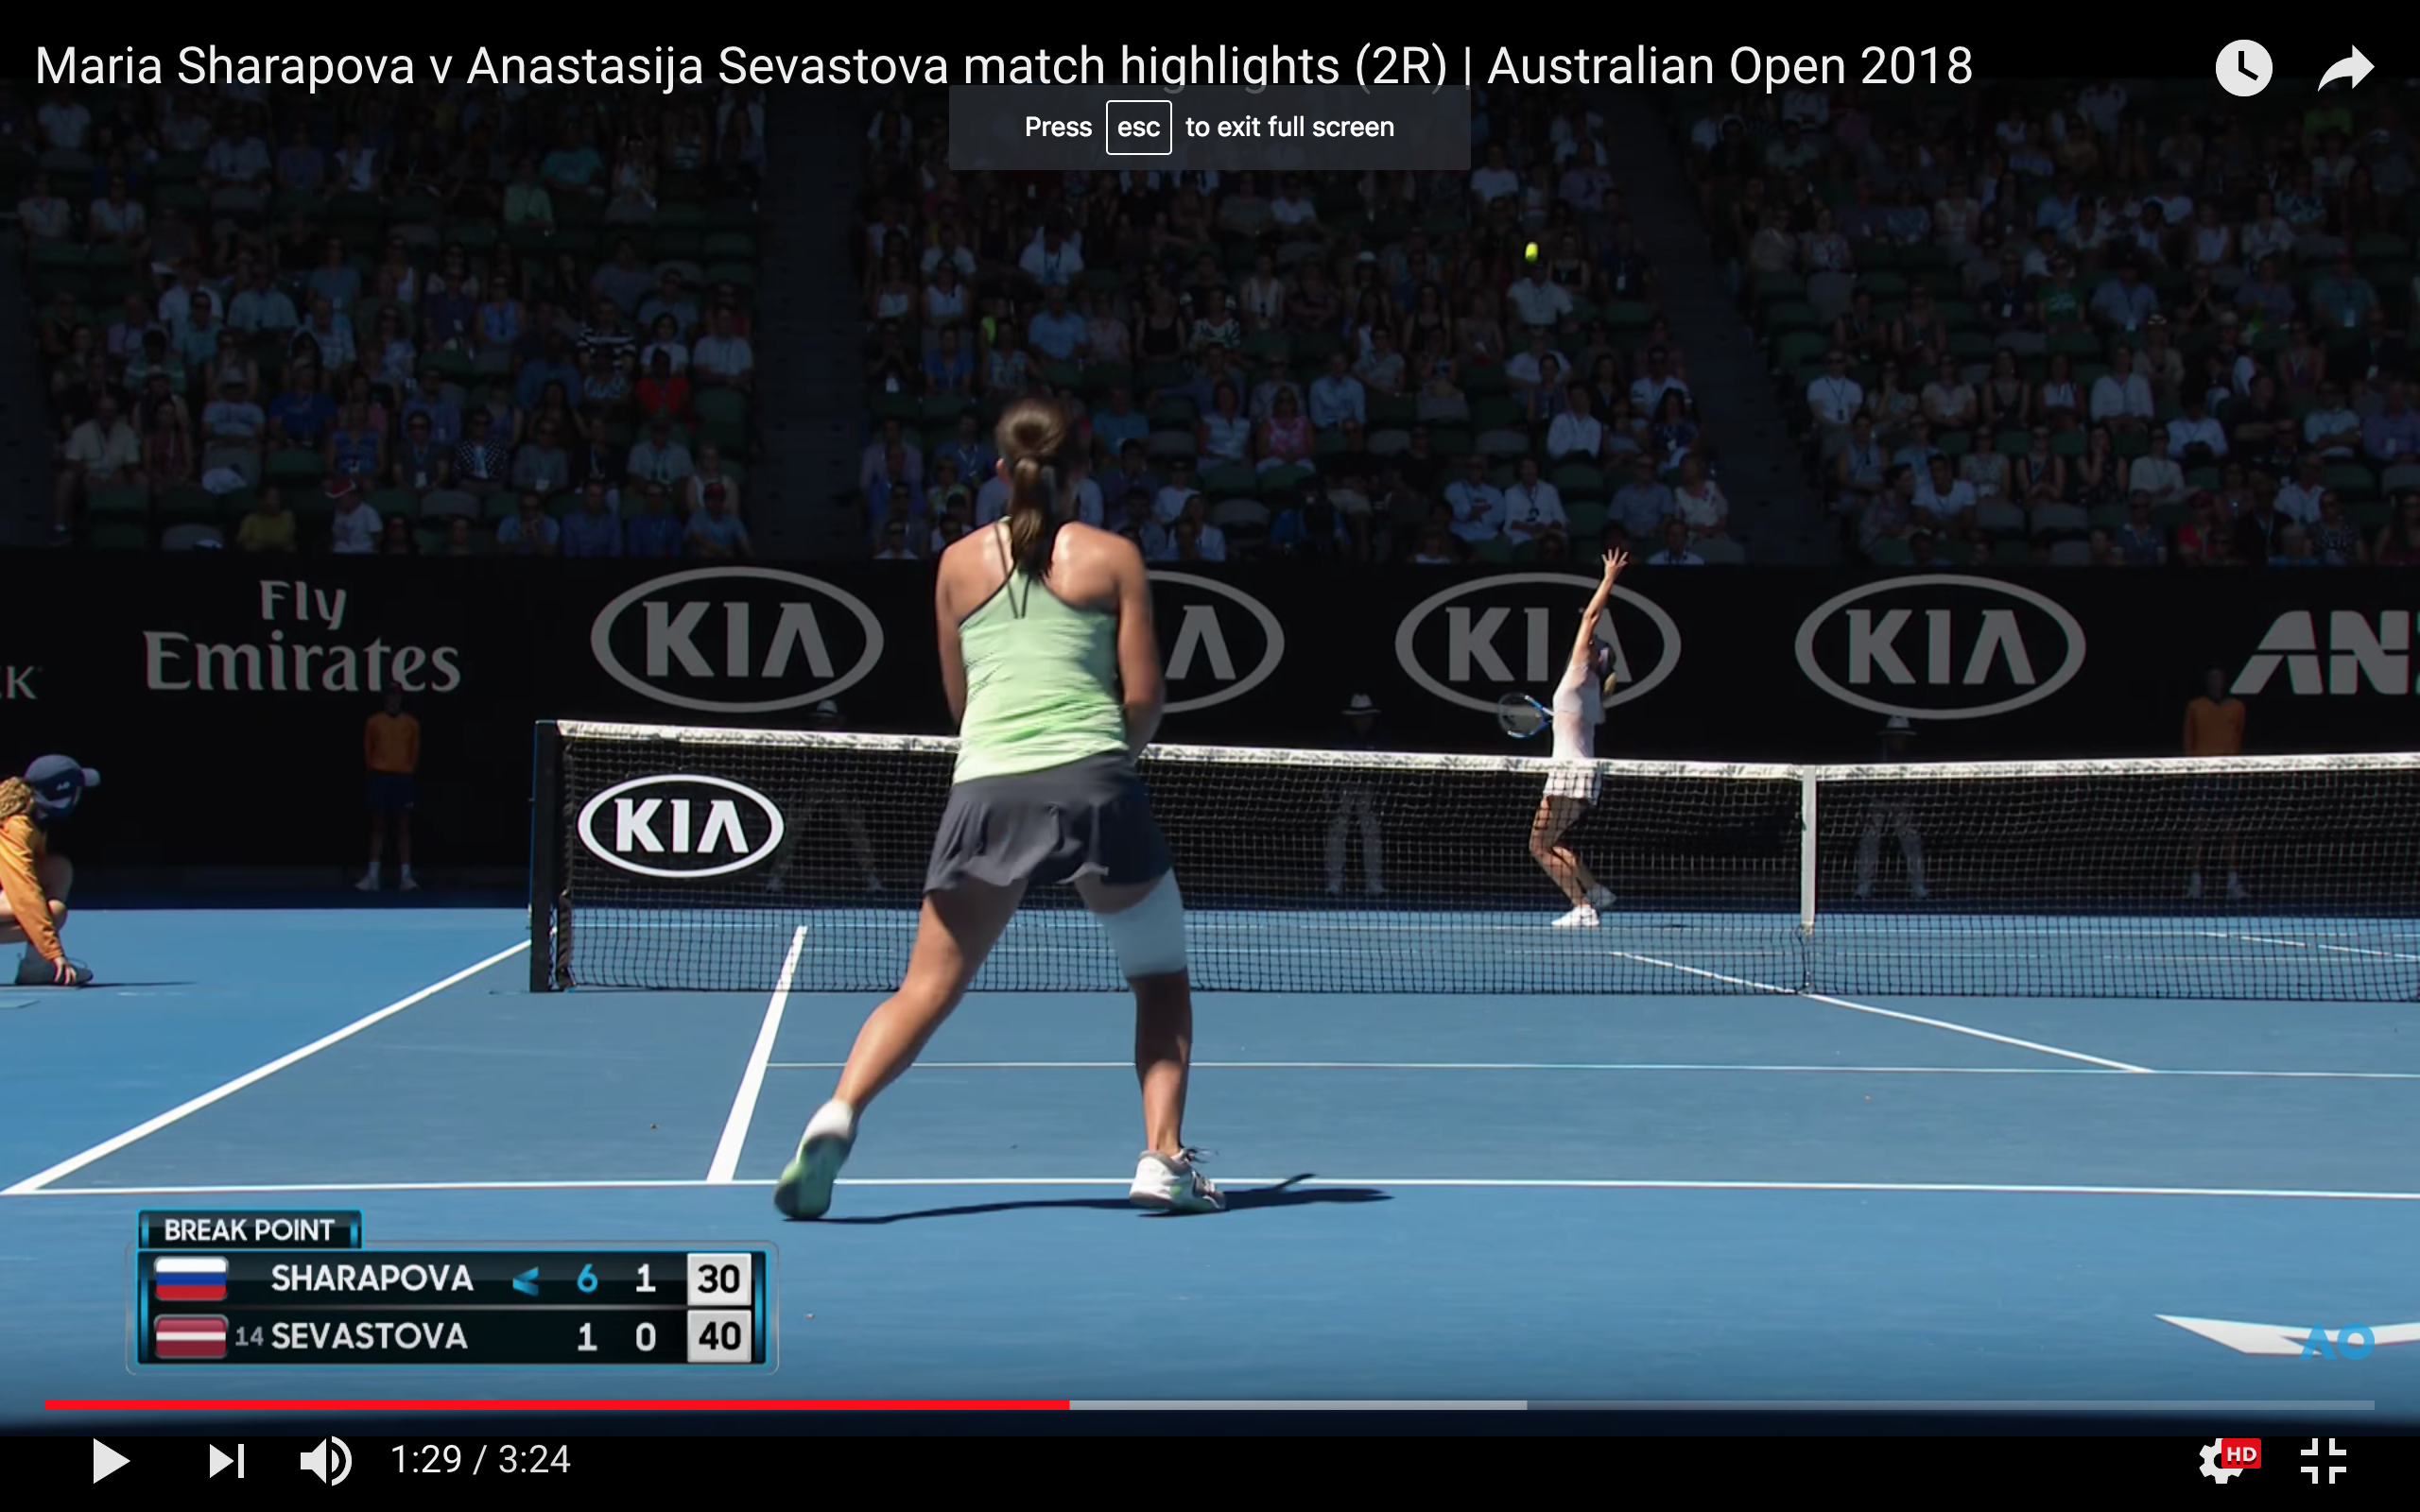tennis ball: (1513, 234, 1550, 265)
tennis player: (760, 381, 1242, 1232), (1505, 545, 1643, 936)
